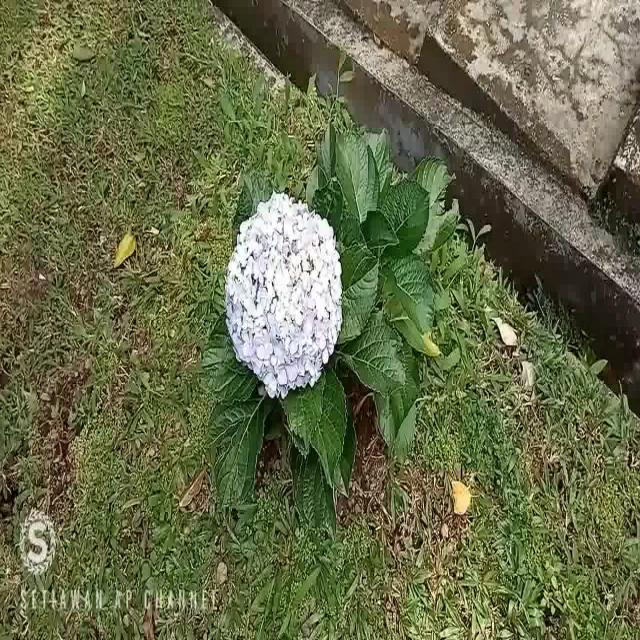Flower: (222, 183, 344, 402)
